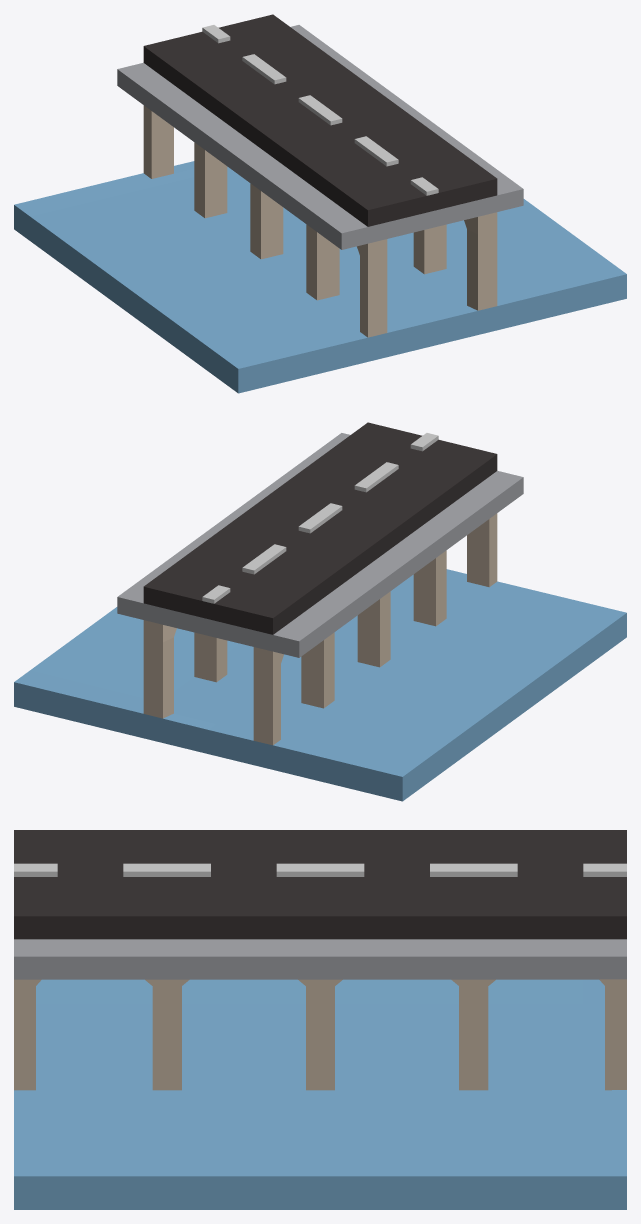
The model's file is Street_Bridge_Water.glb.
The picture shows the model from 3 angles, top to bottom: view 1: azimuth 30°, elevation 25°; view 2: azimuth 150°, elevation 25°; view 3: azimuth 270°, elevation 25°; orthographic projection. The views are drawn at different scales.
Visible parts, largest first — view 1: Street_Bridge_Water; view 2: Street_Bridge_Water; view 3: Street_Bridge_Water.
Part boxes in pixels (<box>): Street_Bridge_Water: <box>14,14,626,393</box>; Street_Bridge_Water: <box>14,422,626,801</box>; Street_Bridge_Water: <box>14,830,626,1209</box>.
Bounding box in the file's own units: 2 × 0.7659 × 2.
